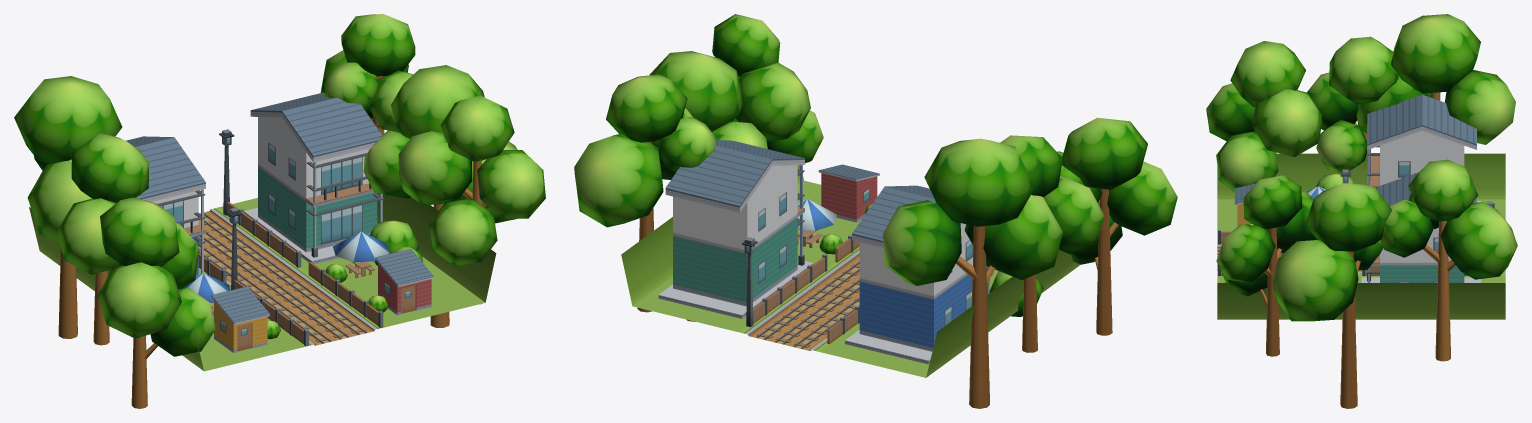
Rendered from Road07.FBX.
The picture shows the model from 3 angles, left to right: view 1: azimuth 30°, elevation 25°; view 2: azimuth 150°, elevation 25°; view 3: azimuth 270°, elevation 25°; orthographic projection. The views are drawn at different scales.
Parts seen in each view (by area): view 1: Tree, House, Side, Rail (×2), Plant; view 2: Tree, House, Side, Rail, Plant; view 3: Tree, Side, House, Plant.
Boxes of the visible parts, x1,y1,x2,y2 form: Tree: (14,14,545,408); House: (125,93,433,352); Side: (29,193,496,371); Rail (×2): (198,211,373,345); Plant: (267,220,422,339); Tree: (574,14,1177,408); House: (658,140,993,364); Side: (621,165,1080,377); Rail: (749,273,859,350); Plant: (819,203,1043,316); Tree: (1206,14,1517,408); Side: (1217,153,1505,319); House: (1218,94,1494,282); Plant: (1248,173,1353,225).
Bounding box in the file's own units: 5157 × 3043 × 3460.
